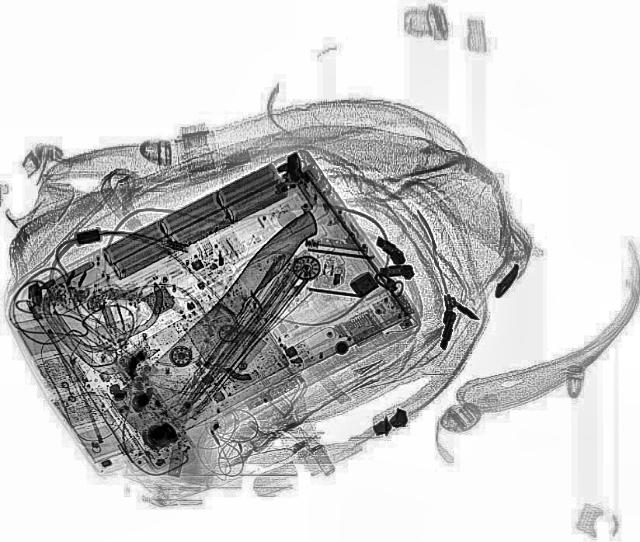Knife: (104, 204, 368, 448)
